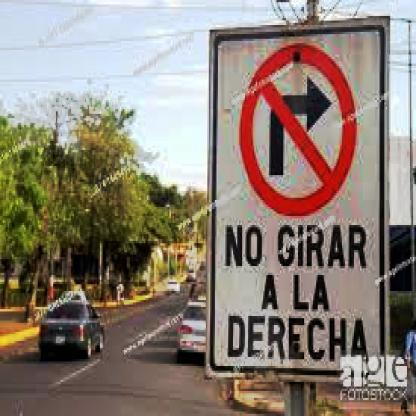No right turn: (242, 43, 358, 212)
